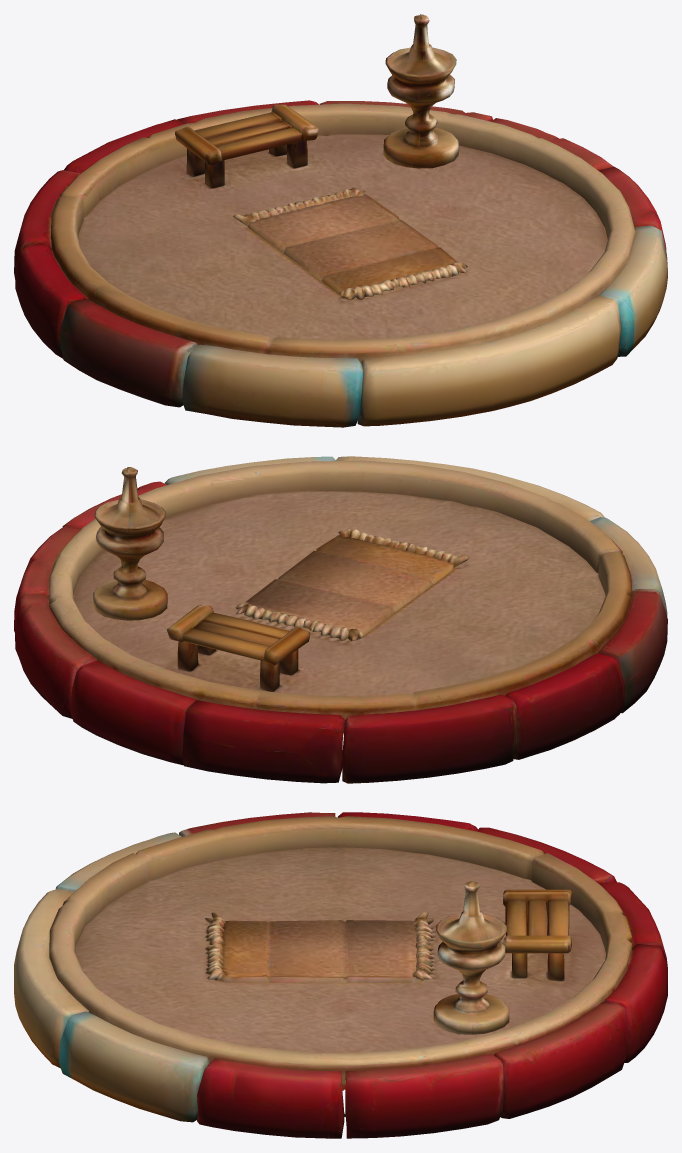
File: base-masjid.b26b8136.glb
The picture shows the model from 3 angles, top to bottom: view 1: azimuth 30°, elevation 25°; view 2: azimuth 150°, elevation 25°; view 3: azimuth 270°, elevation 25°; orthographic projection.
Visible parts, largest first — view 1: tripo_node_a0ec14f5-9266-45dd-8be0-99b2e8688ece; view 2: tripo_node_a0ec14f5-9266-45dd-8be0-99b2e8688ece; view 3: tripo_node_a0ec14f5-9266-45dd-8be0-99b2e8688ece.
Part boxes in pixels (bbox=[...]): tripo_node_a0ec14f5-9266-45dd-8be0-99b2e8688ece: bbox=[14, 14, 667, 427]; tripo_node_a0ec14f5-9266-45dd-8be0-99b2e8688ece: bbox=[14, 456, 667, 783]; tripo_node_a0ec14f5-9266-45dd-8be0-99b2e8688ece: bbox=[14, 812, 667, 1138].
Bounding box in the file's own units: 0.998 × 0.3223 × 0.998.
Materials: 1 (1 with a texture image).
